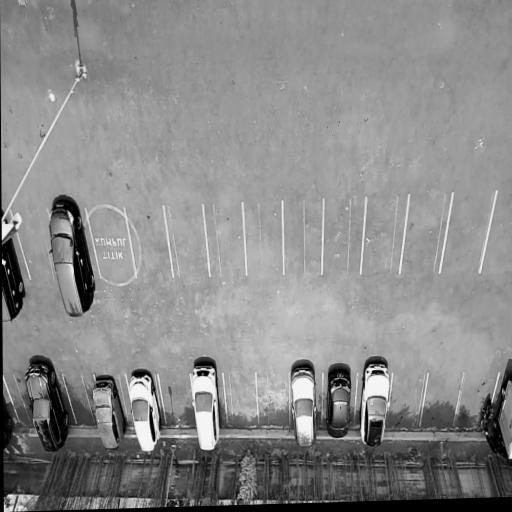Car: (47, 203, 97, 319), (23, 361, 71, 454), (358, 361, 393, 446), (128, 374, 163, 452), (92, 377, 128, 450), (2, 213, 26, 321), (191, 364, 220, 451), (290, 364, 316, 443), (490, 376, 512, 461), (327, 370, 352, 439)
Space Available: (10, 200, 60, 303), (442, 188, 498, 276), (401, 190, 452, 275), (361, 194, 409, 275), (84, 206, 136, 278), (124, 203, 173, 279), (203, 202, 246, 278), (164, 204, 209, 276), (422, 357, 465, 432), (322, 201, 364, 274), (283, 199, 323, 275), (243, 201, 283, 275), (388, 361, 430, 428), (158, 372, 196, 428), (3, 366, 35, 428), (256, 370, 290, 426), (225, 372, 260, 426), (64, 372, 96, 426)
